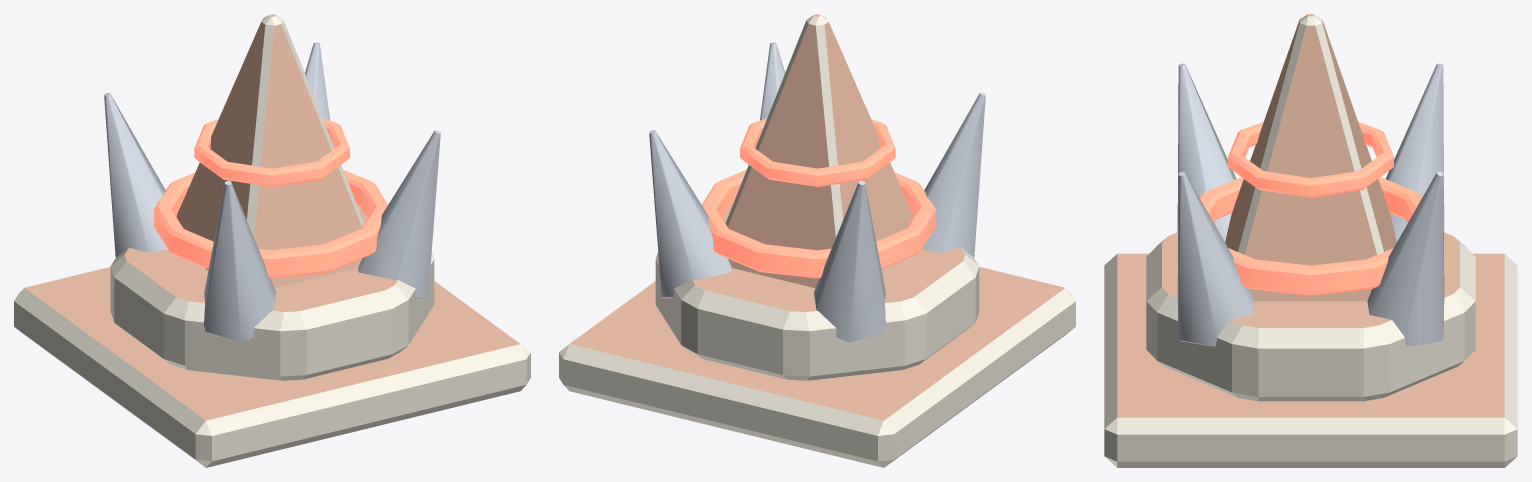
File: R4X_DamageBooster_LOD1.fbx
The picture shows the model from 3 angles, left to right: view 1: azimuth 30°, elevation 25°; view 2: azimuth 150°, elevation 25°; view 3: azimuth 270°, elevation 25°; orthographic projection. The views are drawn at different scales.
Parts seen in each view (by area): view 1: R4X_DamageBooster_LOD1; view 2: R4X_DamageBooster_LOD1; view 3: R4X_DamageBooster_LOD1.
Part boxes in pixels (left/top/right/bottom): R4X_DamageBooster_LOD1: left=14, top=14, right=530, bottom=467; R4X_DamageBooster_LOD1: left=559, top=14, right=1075, bottom=467; R4X_DamageBooster_LOD1: left=1104, top=14, right=1517, bottom=467.
Bounding box in the file's own units: 0.52 × 0.515 × 0.52.
